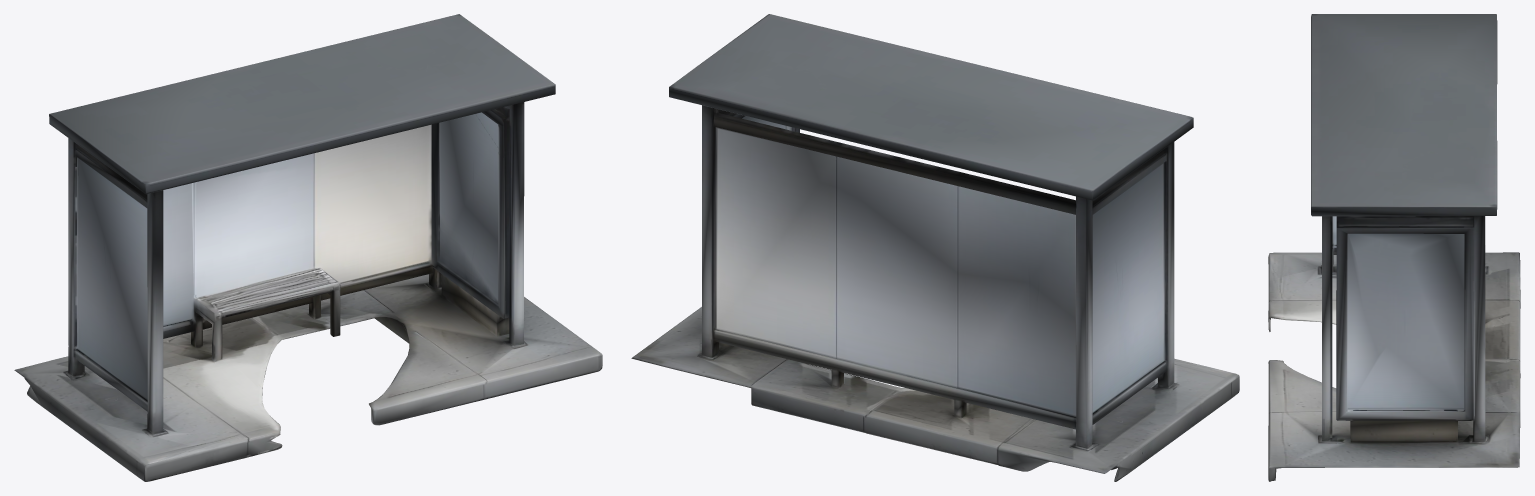
File: bus_shelter.glb
3 views of the same model, side by side, from view 1: azimuth 30°, elevation 25°; view 2: azimuth 150°, elevation 25°; view 3: azimuth 270°, elevation 25° (orthographic). The views are drawn at different scales.
Visible parts, largest first — view 1: node_0; view 2: node_0; view 3: node_0.
Part boxes in pixels (left/top/right/bottom): node_0: left=14, top=14, right=602, bottom=481; node_0: left=631, top=14, right=1239, bottom=481; node_0: left=1268, top=14, right=1520, bottom=481.
Bounding box in the file's own units: 0.9594 × 0.5545 × 0.4757.
Materials: 1 (1 with a texture image).
